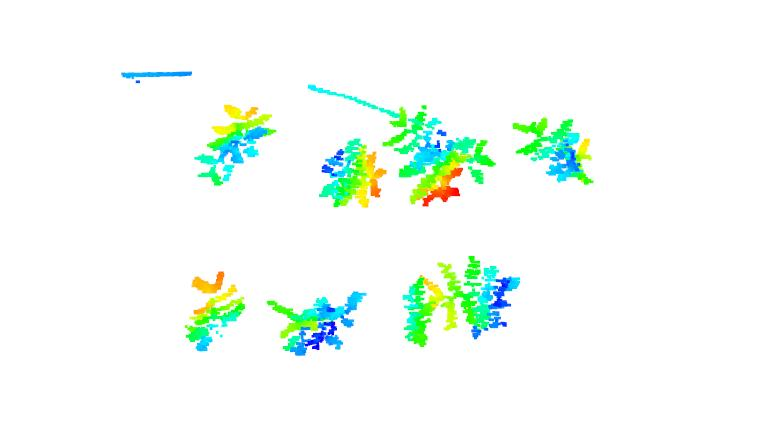chickpea: (385, 104, 499, 206), (406, 256, 520, 347), (191, 105, 282, 186), (269, 284, 365, 359), (511, 113, 595, 187), (179, 268, 250, 354), (314, 135, 386, 209)
